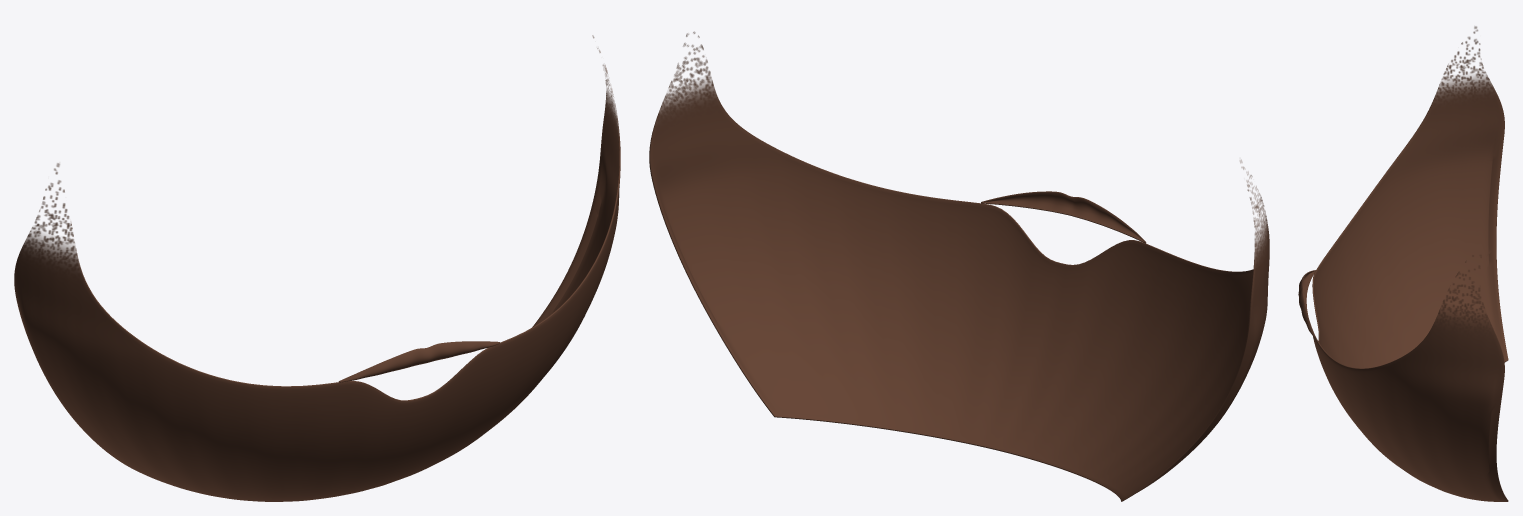
Rendered from Masculine-groom-short.glb.
3 views of the same model, side by side, from view 1: azimuth 30°, elevation 25°; view 2: azimuth 150°, elevation 25°; view 3: azimuth 270°, elevation 25° (orthographic). The views are drawn at different scales.
Parts seen in each view (by area): view 1: Groom / short body184, Groom / shared mustache184; view 2: Groom / short body184, Groom / shared mustache184; view 3: Groom / short body184, Groom / shared mustache184.
Part boxes in pixels (x1=…): Groom / short body184: x1=14, y1=35, x2=620, y2=501; Groom / shared mustache184: x1=338, y1=341, x2=499, y2=382; Groom / short body184: x1=649, y1=31, x2=1269, y2=501; Groom / shared mustache184: x1=981, y1=191, x2=1146, y2=243; Groom / short body184: x1=1312, y1=26, x2=1508, y2=501; Groom / shared mustache184: x1=1298, y1=270, x2=1315, y2=337.
Bounding box in the file's own units: 0.9527 × 0.6001 × 0.3448.
2 materials, 1 textured.
